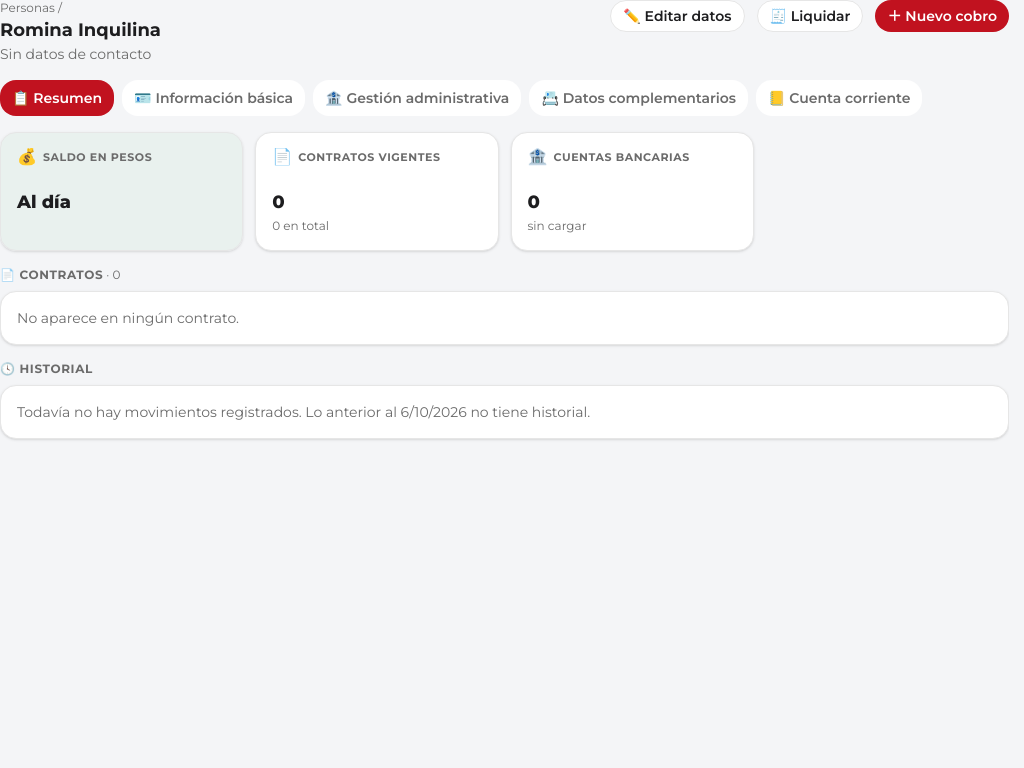
it: CuentaCorriente › «Editar datos» abre el formulario desde cualquier solapa
The image size is (1024, 768).
Expected: the button "📋 Resumen" does not show "cuenta", [0, 80, 114, 116]
Click the button "✏️ Editar datos". click: point(677, 16)
box: [610, 0, 745, 32]
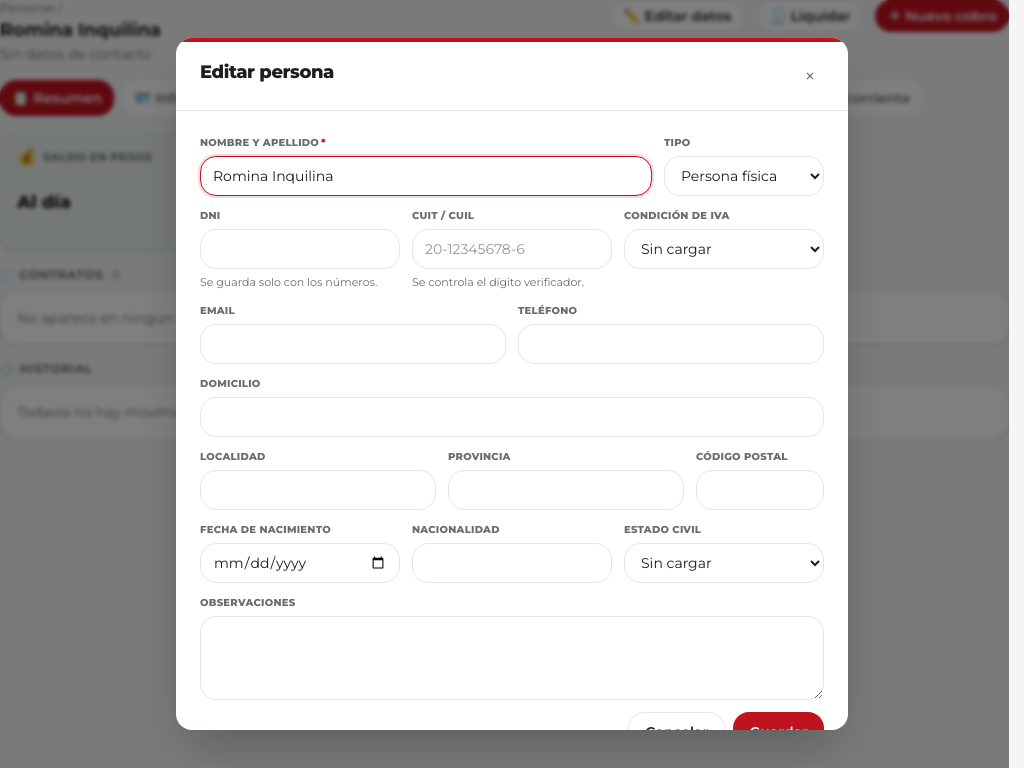
Now the dialog is shown
